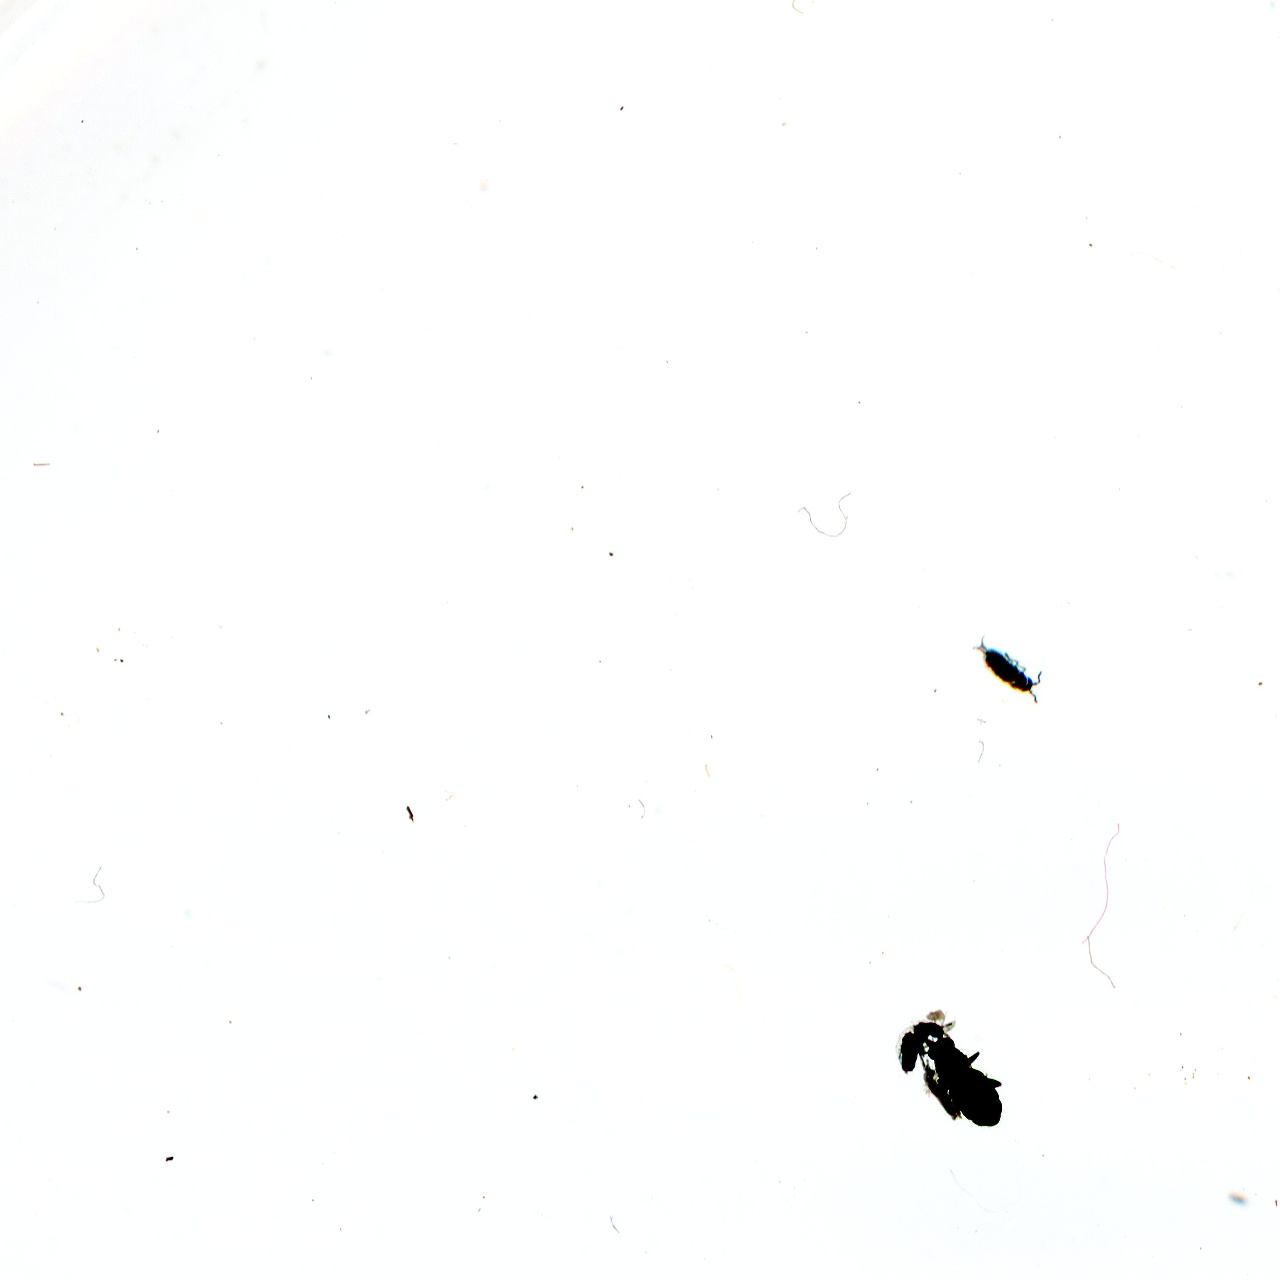arthropod: (958, 613, 1063, 722)
